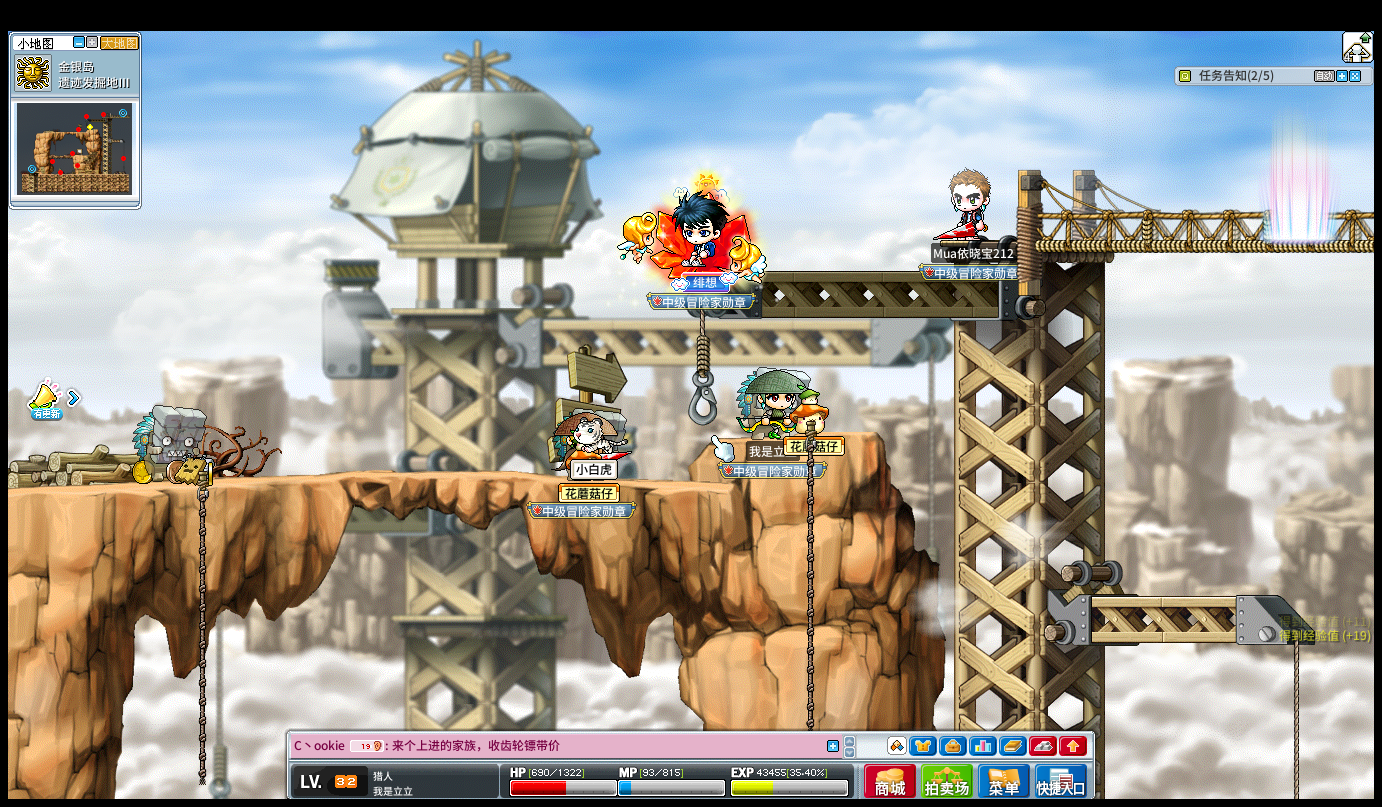floor: (14, 466, 761, 493)
monster: (132, 405, 204, 484)
rope: (193, 466, 207, 795), (802, 438, 817, 725), (1288, 641, 1303, 794)
